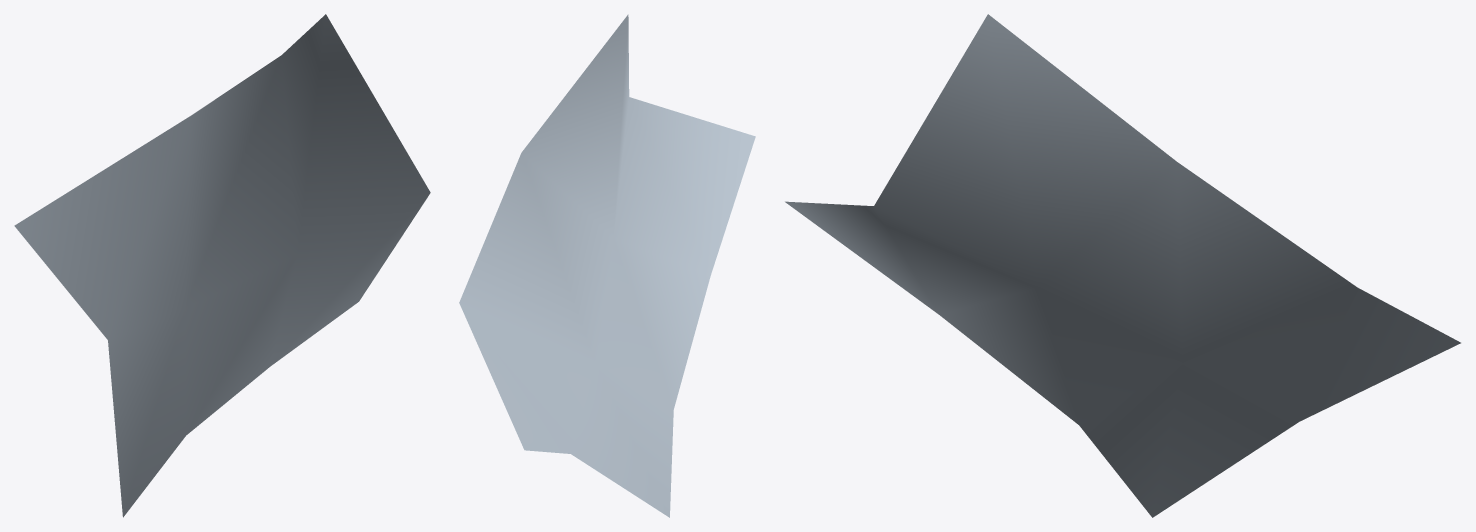
The model's file is posterior-sternoclavicular-ligament-l.glb.
The picture shows the model from 3 angles, left to right: view 1: azimuth 30°, elevation 25°; view 2: azimuth 150°, elevation 25°; view 3: azimuth 270°, elevation 25°; orthographic projection. The views are drawn at different scales.
Visible parts, largest first — view 1: Posterior sternoclavicular ligament.l; view 2: Posterior sternoclavicular ligament.l; view 3: Posterior sternoclavicular ligament.l.
Boxes of the visible parts, box(x1,y1,x2,y2) form: Posterior sternoclavicular ligament.l: box(14, 14, 430, 517); Posterior sternoclavicular ligament.l: box(459, 14, 755, 517); Posterior sternoclavicular ligament.l: box(785, 14, 1460, 517).
Size of the model in its own units: 0.00737 by 0.0208 by 0.0224.
